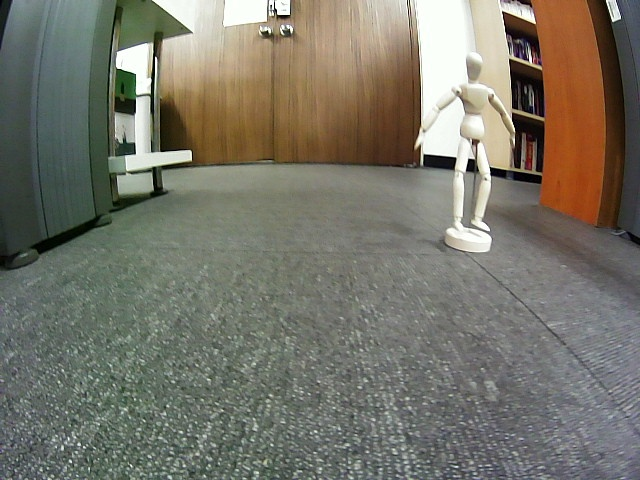person: (417, 52, 517, 235)
